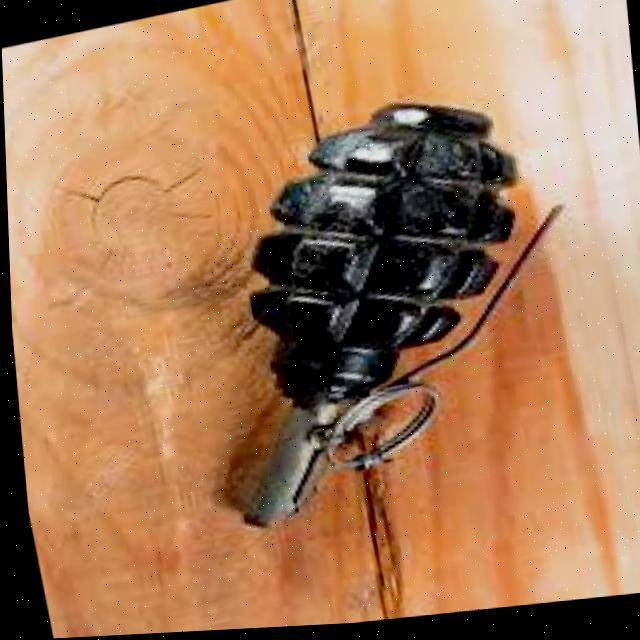grenade: (163, 89, 562, 542)
